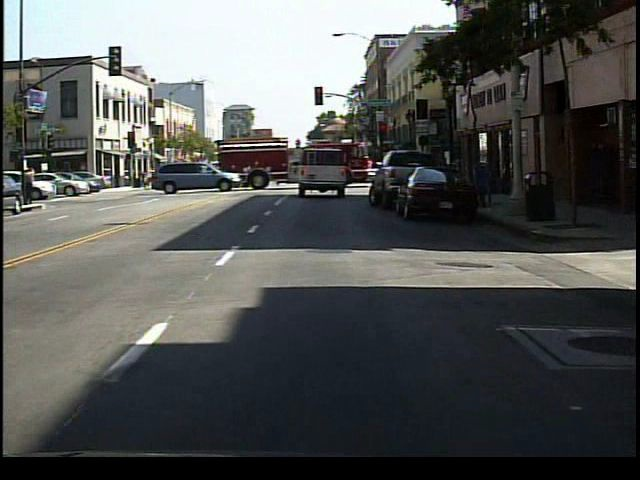person: (24, 165, 39, 207)
